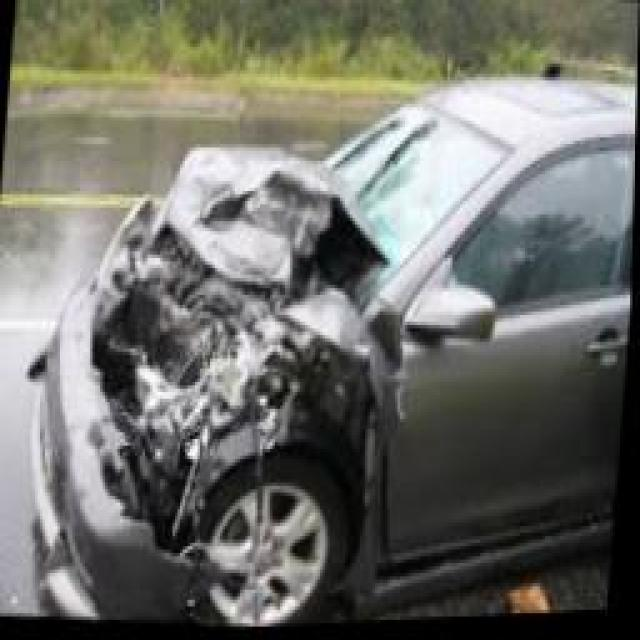Bonnet: (140, 124, 352, 340)
Bumper: (25, 265, 128, 620)
Light: (125, 342, 202, 442)
